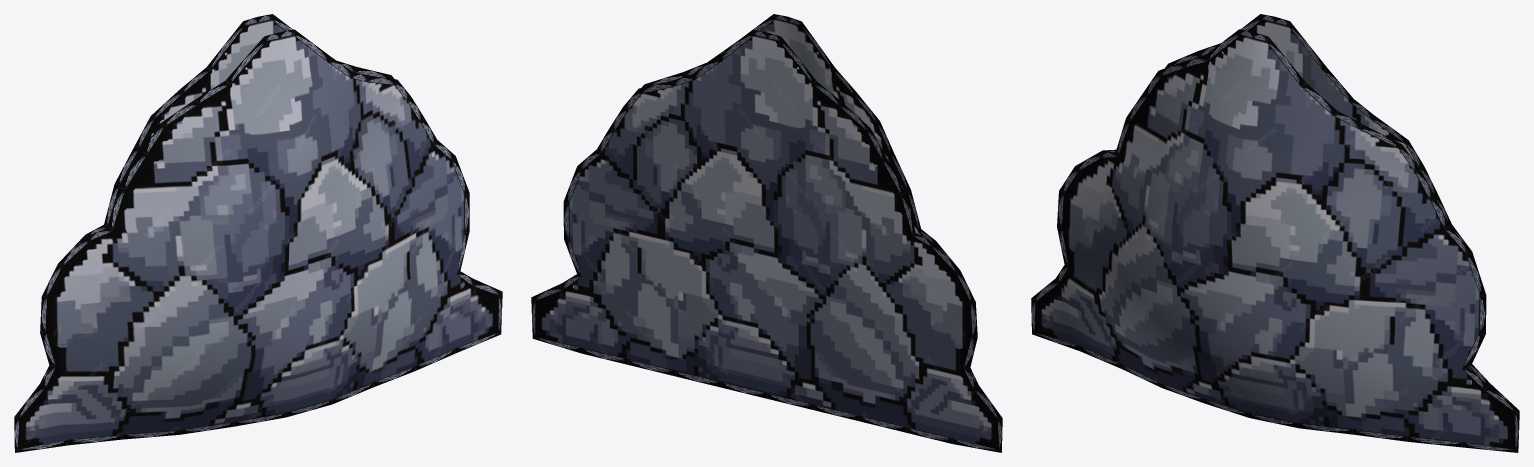
File: Stones_PixelArt.fbx
The picture shows the model from 3 angles, left to right: view 1: azimuth 30°, elevation 25°; view 2: azimuth 150°, elevation 25°; view 3: azimuth 330°, elevation 25°; orthographic projection. The views are drawn at different scales.
Parts seen in each view (by area): view 1: Stones_Pixel_Art_Extrude, Stones_Pixel_Art_Base; view 2: Stones_Pixel_Art_Base, Stones_Pixel_Art_Extrude; view 3: Stones_Pixel_Art_Extrude, Stones_Pixel_Art_Base.
Boxes of the visible parts, x1=… form: Stones_Pixel_Art_Extrude: x1=14, y1=29, x2=502, y2=452; Stones_Pixel_Art_Base: x1=14, y1=14, x2=499, y2=447; Stones_Pixel_Art_Base: x1=531, y1=30, x2=1002, y2=452; Stones_Pixel_Art_Extrude: x1=536, y1=14, x2=1002, y2=452; Stones_Pixel_Art_Extrude: x1=1031, y1=29, x2=1519, y2=452; Stones_Pixel_Art_Base: x1=1101, y1=14, x2=1519, y2=448.
Size of the model in its own units: 4.07 by 3.05 by 0.574.
